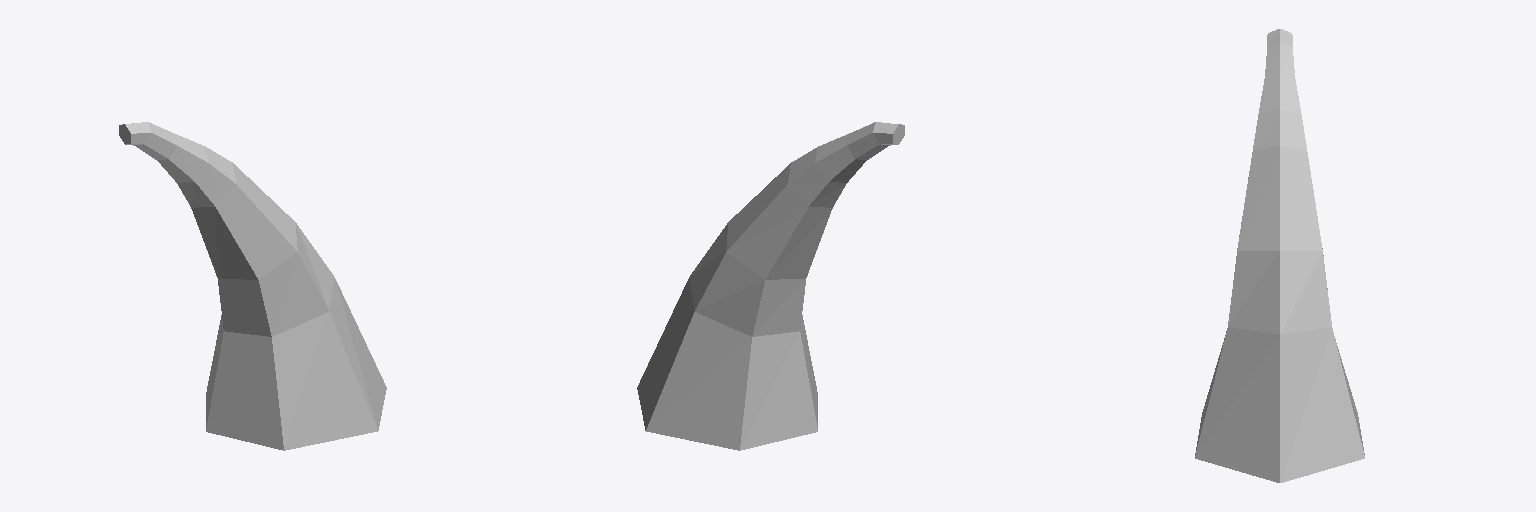
Rendered from foutainwater mesh.obj.
3 views of the same model, side by side, from view 1: azimuth 30°, elevation 25°; view 2: azimuth 150°, elevation 25°; view 3: azimuth 270°, elevation 25° (orthographic).
Parts seen in each view (by area): view 1: pCylinder1; view 2: pCylinder1; view 3: pCylinder1.
Boxes of the visible parts, x1=… form: pCylinder1: x1=119, y1=122, x2=386, y2=450; pCylinder1: x1=637, y1=122, x2=904, y2=450; pCylinder1: x1=1195, y1=29, x2=1364, y2=482.
Size of the model in its own units: 0.9958 by 1.19 by 0.5621.